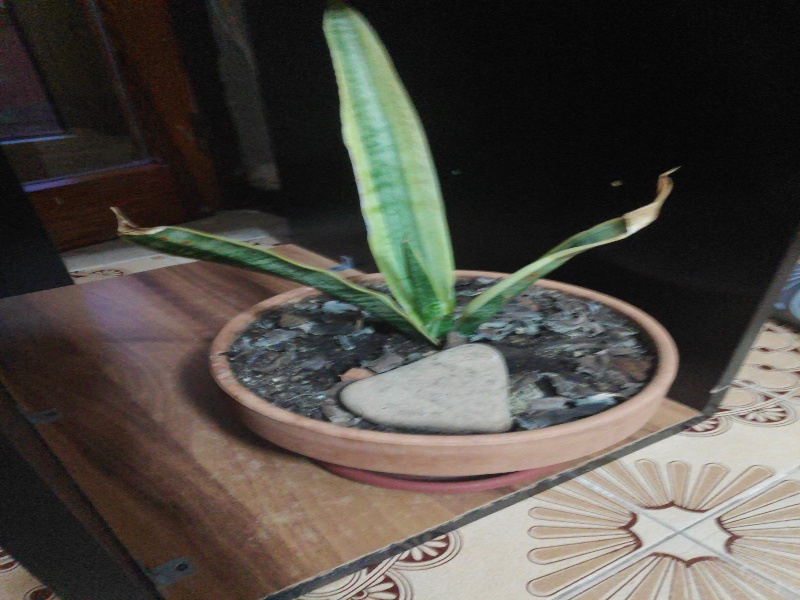plant: (107, 5, 689, 499)
